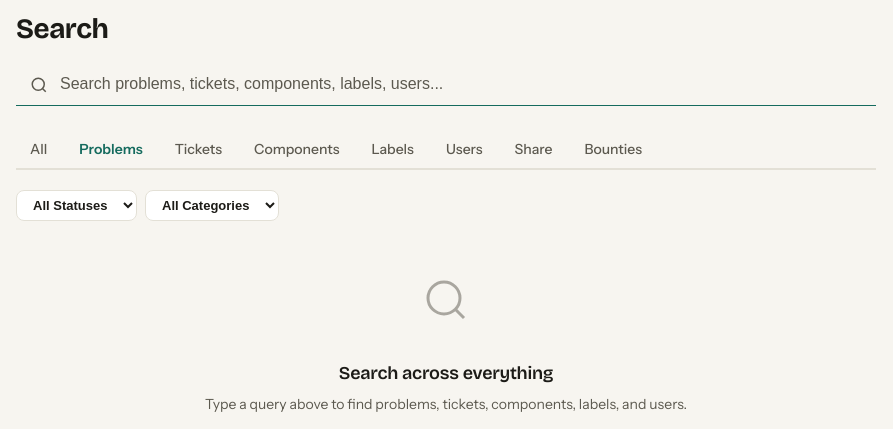
Test: Search (WP57) — tabbed search page › empty results renders friendly empty state per tab
The width and height of the screenshot is (893, 429).
In the field: (446, 84) [16,63,876,106], type "xyzzy"
Wait 350 ms
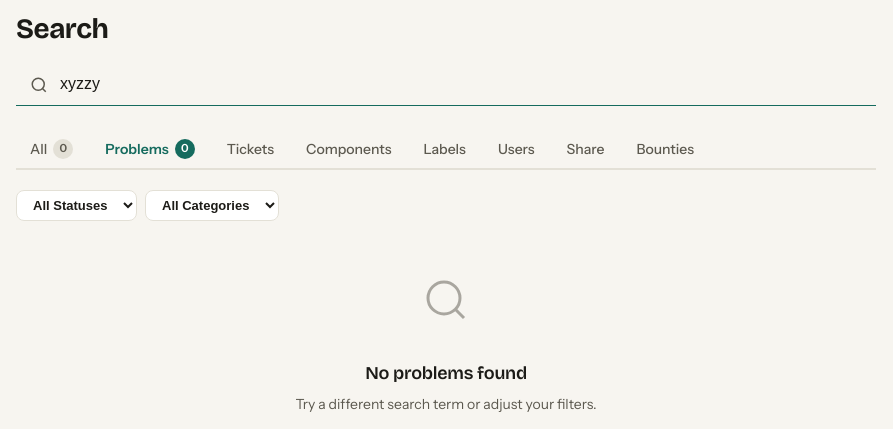
Now the heading "No problems found" is shown, box [365,362,527,384]
